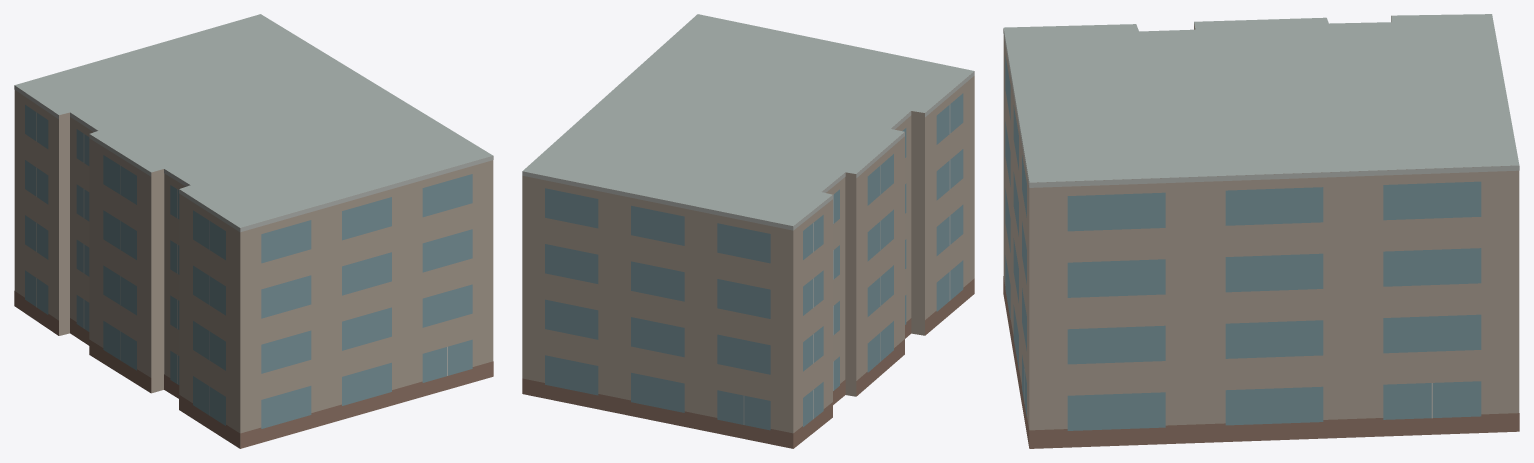
Rendered from survey-upis-32777988.glb.
The picture shows the model from 3 angles, left to right: view 1: azimuth 30°, elevation 25°; view 2: azimuth 150°, elevation 25°; view 3: azimuth 270°, elevation 25°; orthographic projection. The views are drawn at different scales.
Parts seen in each view (by area): view 1: survey-upis-32777988.tmp; view 2: survey-upis-32777988.tmp; view 3: survey-upis-32777988.tmp.
Part boxes in pixels (left/top/right/bottom): survey-upis-32777988.tmp: left=14, top=14, right=493, bottom=448; survey-upis-32777988.tmp: left=522, top=14, right=974, bottom=448; survey-upis-32777988.tmp: left=1003, top=14, right=1519, bottom=448.
Bounding box in the file's own units: 16.87 × 12.4 × 21.8.
